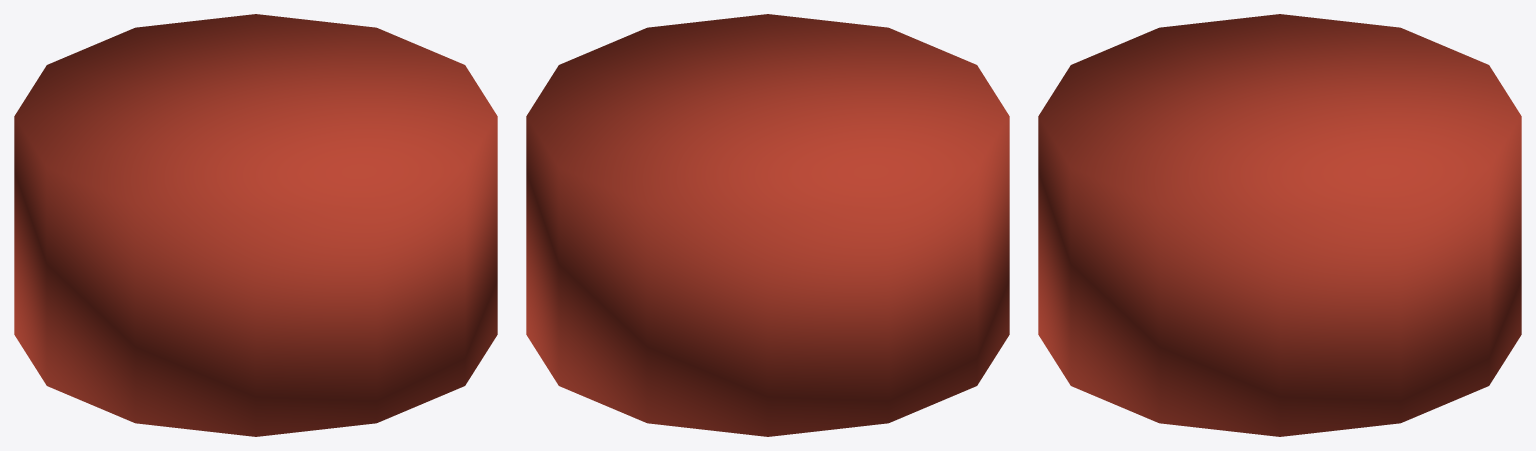
File: cinnabar_pillar.glb
3 views of the same model, side by side, from view 1: azimuth 30°, elevation 25°; view 2: azimuth 150°, elevation 25°; view 3: azimuth 270°, elevation 25° (orthographic).
Visible parts, largest first — view 1: cinnabar_pillar; view 2: cinnabar_pillar; view 3: cinnabar_pillar.
Part boxes in pixels (x1,y1,x2,y2): cinnabar_pillar: [14, 14, 497, 436]; cinnabar_pillar: [526, 14, 1009, 436]; cinnabar_pillar: [1038, 14, 1521, 436].
Size of the model in its own units: 2 by 1 by 2.
